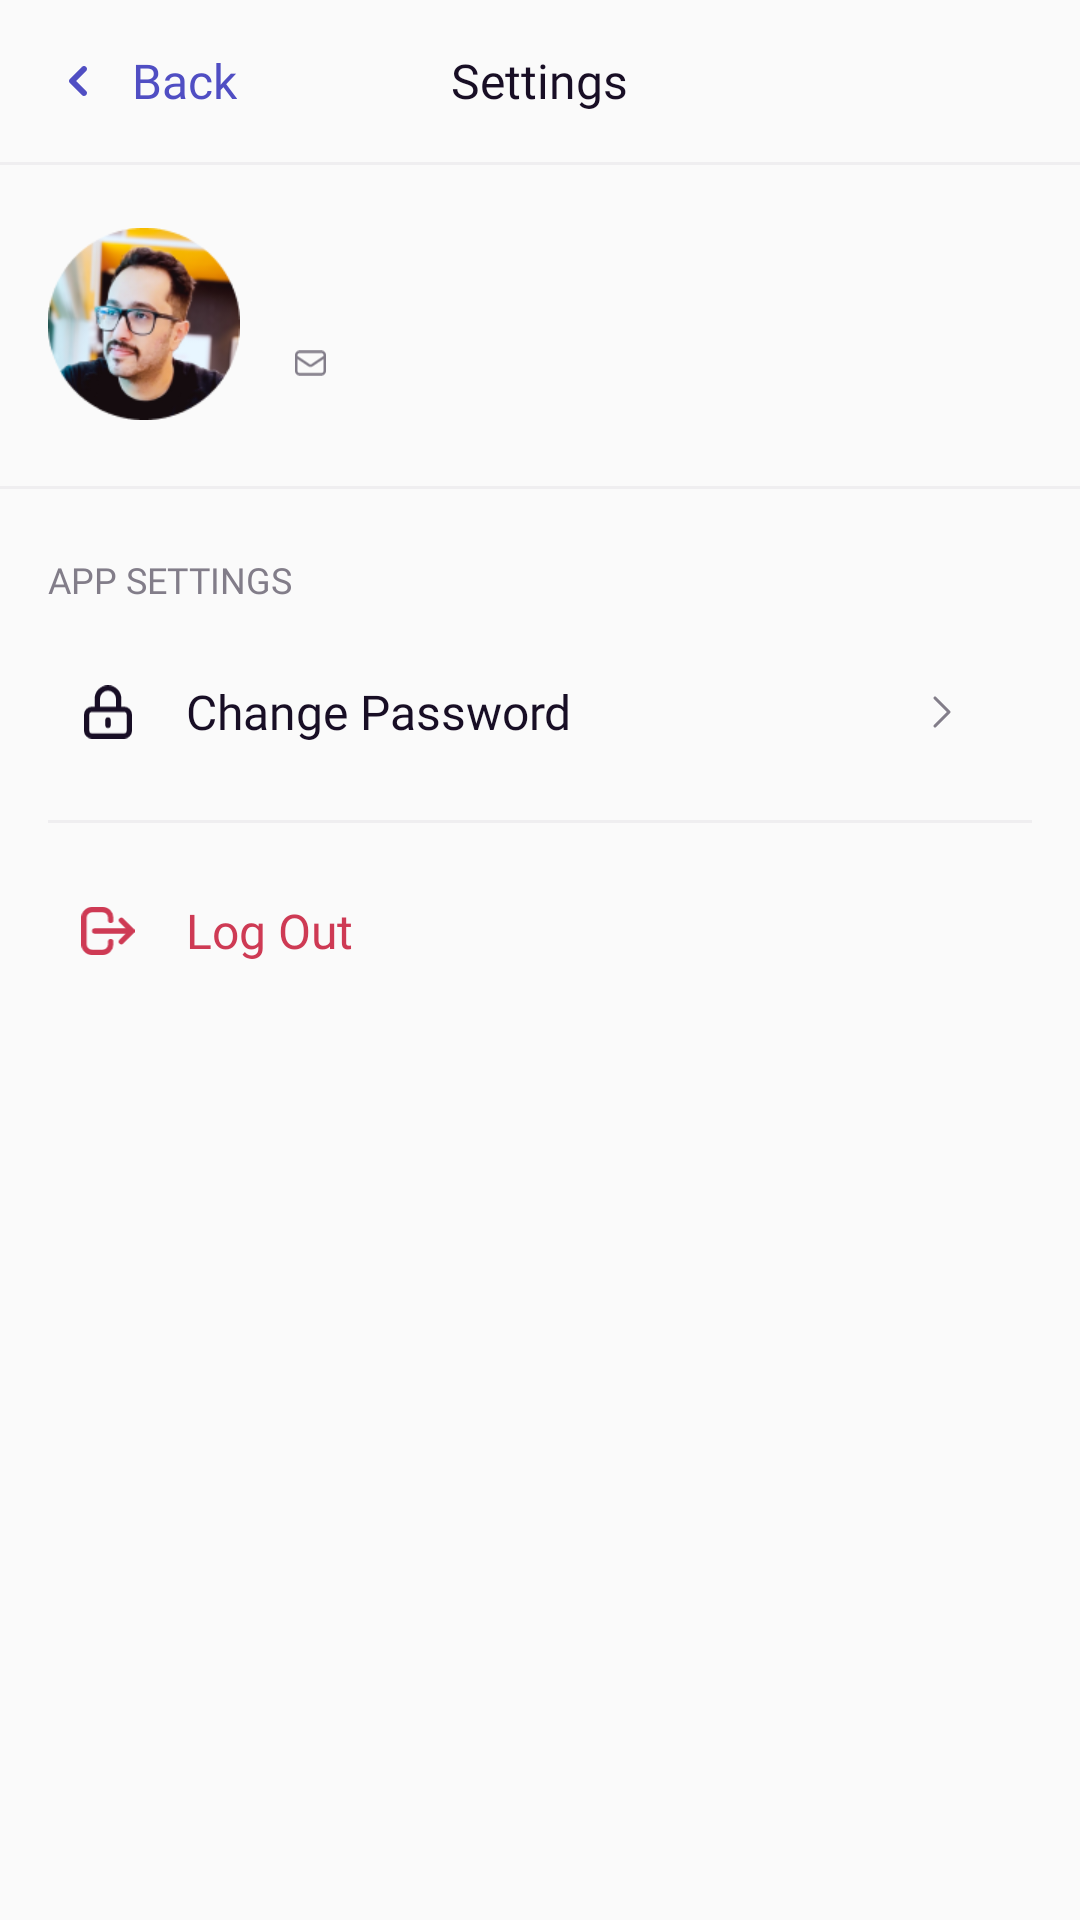

Icon bounding boxes for this 1080x1920 phone screenshot, format (x1, y1, x2, y2):
email: (295, 350, 326, 376)
forward: (933, 696, 951, 728)
profile: (48, 228, 240, 420)
